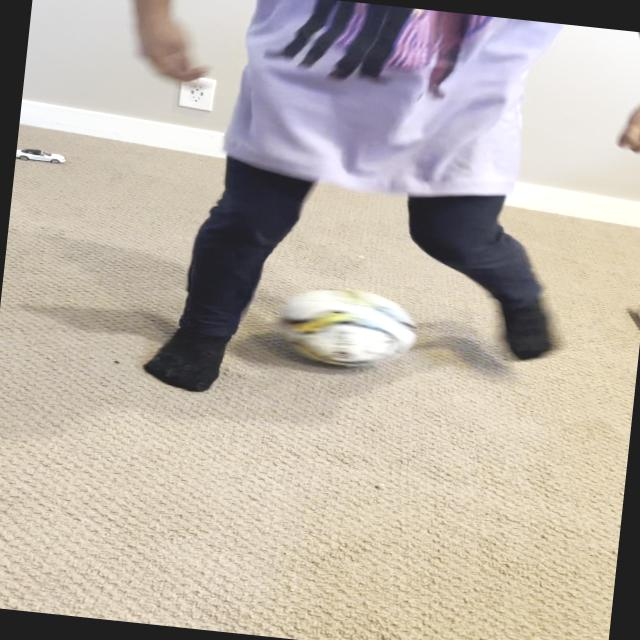Soccer Ball: (274, 282, 416, 372)
